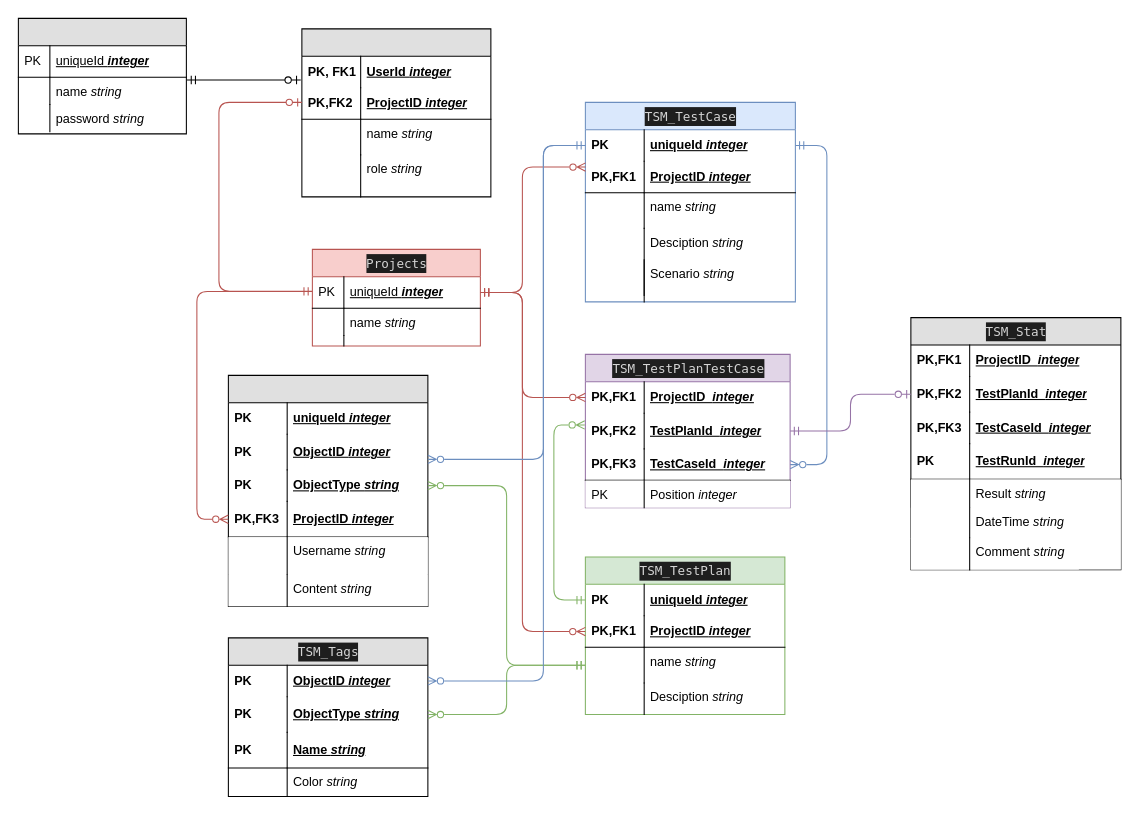
This 1139x817 diagram has some shape labels left out. Each missing label, with the box of its shape:
TSM_Comments: (227, 374, 428, 606)
TSM_ProjectUsers: (301, 28, 491, 197)
TSM_Users: (17, 17, 186, 134)
